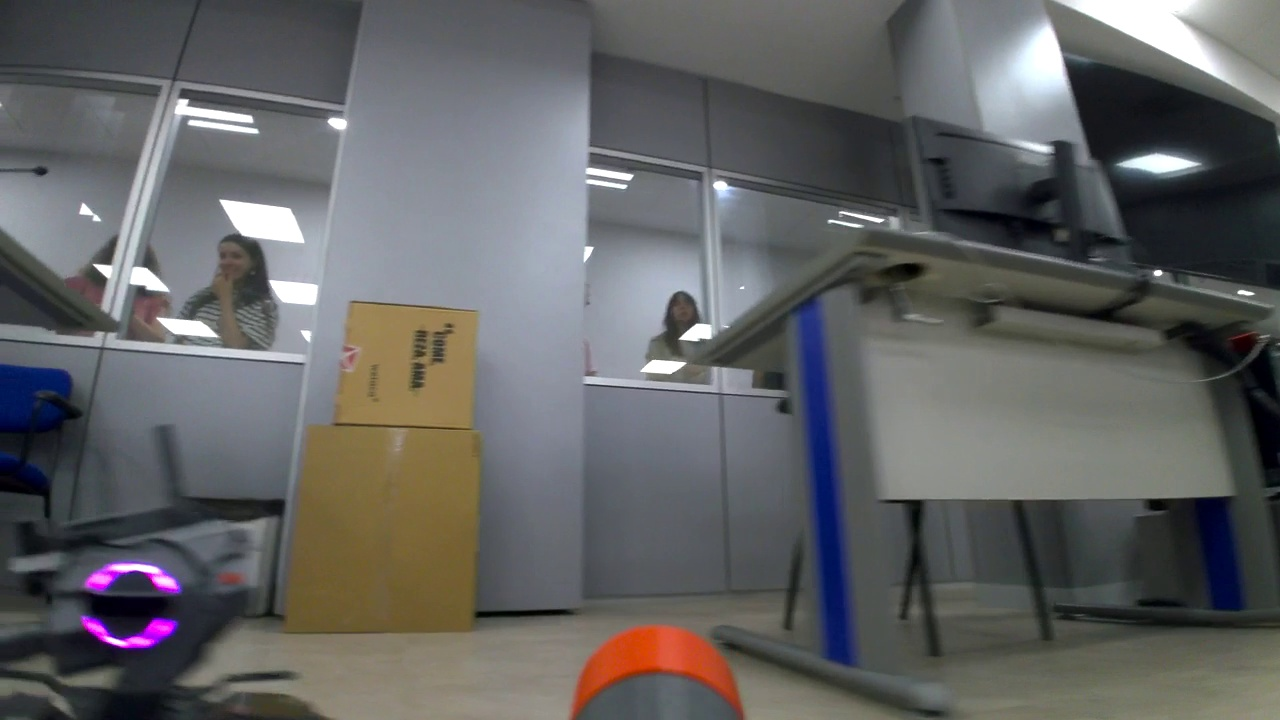robot: (12, 512, 340, 717)
